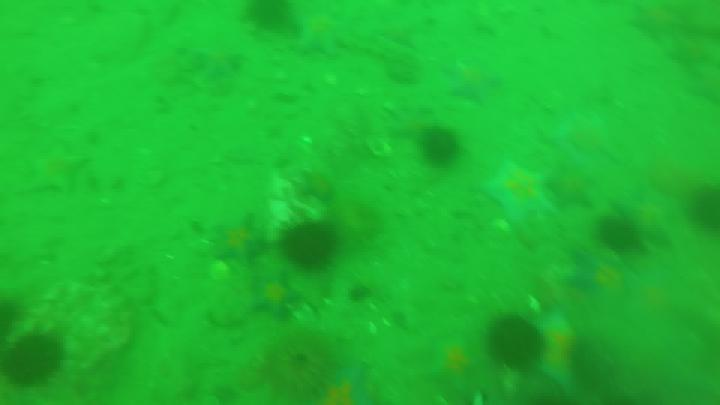echinus: (1, 334, 65, 387), (487, 316, 549, 369), (281, 220, 338, 271), (416, 127, 461, 168), (244, 5, 303, 35), (689, 183, 720, 233), (600, 218, 640, 253)
scallop: (368, 139, 394, 160), (211, 262, 233, 286), (491, 219, 513, 234)
starfish: (483, 161, 557, 226), (16, 137, 86, 199), (542, 101, 613, 161), (273, 368, 383, 405), (539, 317, 597, 386), (572, 248, 638, 303), (445, 53, 504, 105), (209, 216, 270, 266), (183, 38, 242, 81), (257, 268, 305, 320), (292, 15, 352, 55)
